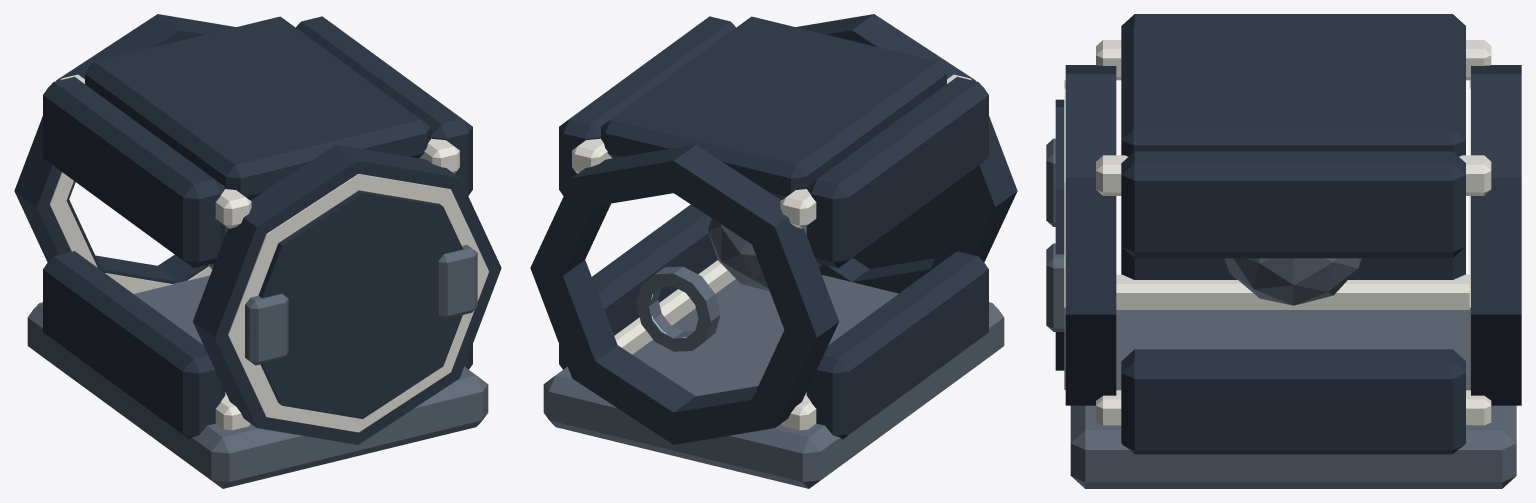
Rendered from sandbox_chamber.glb.
3 views of the same model, side by side, from view 1: azimuth 30°, elevation 25°; view 2: azimuth 150°, elevation 25°; view 3: azimuth 270°, elevation 25° (orthographic). The views are drawn at different scales.
Parts seen in each view (by area): view 1: sandbox_chamber__roof, sandbox_chamber__door, sandbox_chamber__end_frame__02, sandbox_chamber__base, sandbox_chamber__side_armor__02, sandbox_chamber__side_armor, sandbox_chamber__ivory_rim__02, sandbox_chamber__end_frame, sandbox_chamber__side_armor__04, sandbox_chamber__lock, sandbox_chamber__lock__02, sandbox_chamber__ivory_rim (+3 smaller); view 2: sandbox_chamber__end_frame, sandbox_chamber__roof, sandbox_chamber__base, sandbox_chamber__side_armor__02, sandbox_chamber__side_armor, sandbox_chamber__end_frame__02, sandbox_chamber__side_armor__03, sandbox_chamber__side_armor__04, sandbox_chamber__primary_DCI-M_frame, sandbox_chamber__door, sandbox_chamber__axial_rail__03, sandbox_chamber__core (+3 smaller); view 3: sandbox_chamber__roof, sandbox_chamber__side_armor__04, sandbox_chamber__side_armor__03, sandbox_chamber__base, sandbox_chamber__end_frame__02, sandbox_chamber__end_frame, sandbox_chamber__axial_rail, sandbox_chamber__side_armor, sandbox_chamber__core, sandbox_chamber__side_armor__02, sandbox_chamber__axial_rail__04, sandbox_chamber__door (+6 smaller).
Boxes of the visible parts, x1=… form: sandbox_chamber__roof: x1=85, y1=16, x2=430, y2=199; sandbox_chamber__door: x1=258, y1=190, x2=462, y2=418; sandbox_chamber__end_frame__02: x1=192, y1=144, x2=501, y2=444; sandbox_chamber__base: x1=27, y1=275, x2=488, y2=488; sandbox_chamber__side_armor__02: x1=43, y1=76, x2=225, y2=268; sandbox_chamber__side_armor: x1=43, y1=251, x2=225, y2=439; sandbox_chamber__ivory_rim__02: x1=228, y1=174, x2=489, y2=432; sandbox_chamber__end_frame: x1=14, y1=14, x2=236, y2=283; sandbox_chamber__side_armor__04: x1=296, y1=16, x2=472, y2=195; sandbox_chamber__lock: x1=245, y1=293, x2=288, y2=365; sandbox_chamber__lock__02: x1=437, y1=245, x2=477, y2=319; sandbox_chamber__ivory_rim: x1=49, y1=172, x2=211, y2=293; sandbox_chamber__end_frame: x1=530, y1=144, x2=839, y2=444; sandbox_chamber__roof: x1=601, y1=16, x2=946, y2=199; sandbox_chamber__base: x1=543, y1=275, x2=1004, y2=488; sandbox_chamber__side_armor__02: x1=806, y1=76, x2=988, y2=268; sandbox_chamber__side_armor: x1=806, y1=251, x2=988, y2=439; sandbox_chamber__end_frame__02: x1=795, y1=14, x2=1017, y2=293; sandbox_chamber__side_armor__03: x1=559, y1=204, x2=717, y2=369; sandbox_chamber__side_armor__04: x1=559, y1=16, x2=735, y2=195; sandbox_chamber__primary_DCI-M_frame: x1=636, y1=266, x2=720, y2=351; sandbox_chamber__door: x1=853, y1=182, x2=962, y2=268; sandbox_chamber__axial_rail__03: x1=614, y1=260, x2=735, y2=354; sandbox_chamber__core: x1=708, y1=200, x2=823, y2=290; sandbox_chamber__roof: x1=1121, y1=26, x2=1465, y2=156; sandbox_chamber__side_armor__04: x1=1121, y1=151, x2=1465, y2=258; sandbox_chamber__side_armor__03: x1=1121, y1=349, x2=1465, y2=454; sandbox_chamber__base: x1=1070, y1=310, x2=1516, y2=488; sandbox_chamber__end_frame__02: x1=1065, y1=65, x2=1116, y2=405; sandbox_chamber__end_frame: x1=1471, y1=65, x2=1521, y2=405; sandbox_chamber__axial_rail: x1=1116, y1=274, x2=1469, y2=309; sandbox_chamber__side_armor: x1=1121, y1=246, x2=1465, y2=279; sandbox_chamber__core: x1=1225, y1=258, x2=1361, y2=305; sandbox_chamber__side_armor__02: x1=1121, y1=14, x2=1465, y2=36; sandbox_chamber__axial_rail__04: x1=1096, y1=155, x2=1491, y2=195; sandbox_chamber__door: x1=1055, y1=99, x2=1064, y2=370.
Size of the model in its own units: 2.8 by 2.8 by 3.5.
